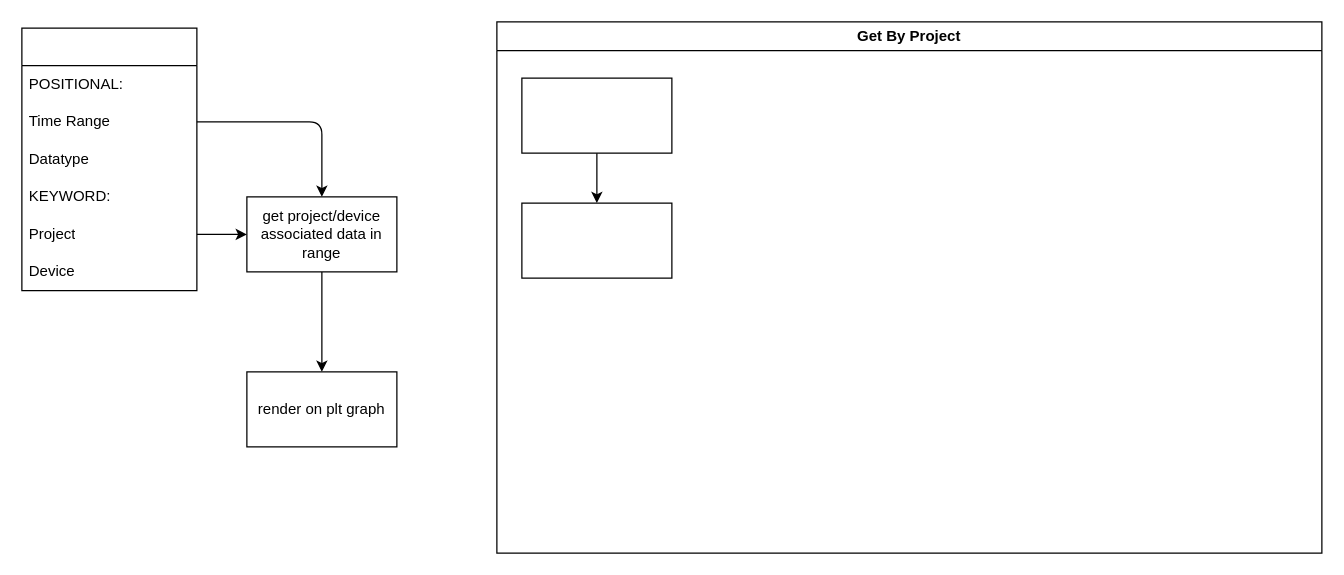
This 1344x575 diagram has some shape labels left out. Each missing label, with the box of its shape:
Data (DeviceID, Datetime, Dtype, Dtype Value): (521, 77, 672, 153)
Parameters: (21, 27, 197, 291)
